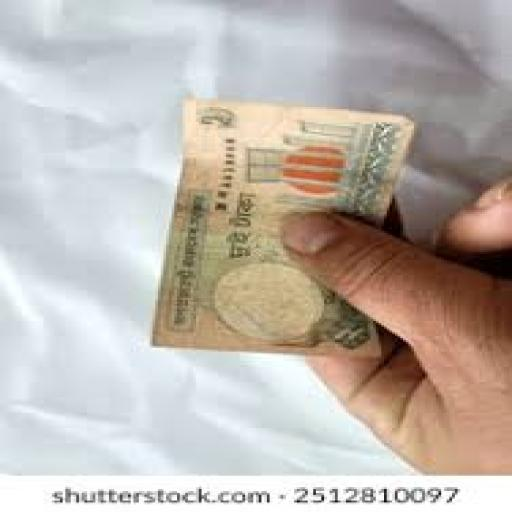2taka: (155, 99, 411, 353)
